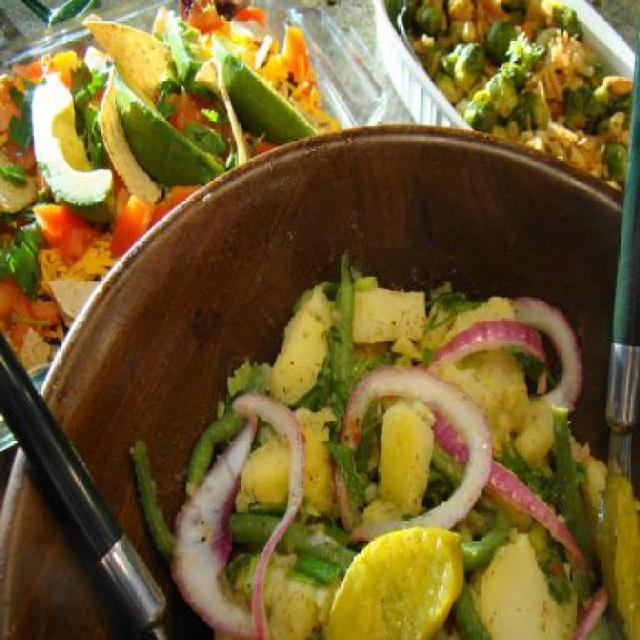Salad: (127, 259, 640, 639), (0, 0, 346, 377), (385, 1, 633, 194)
